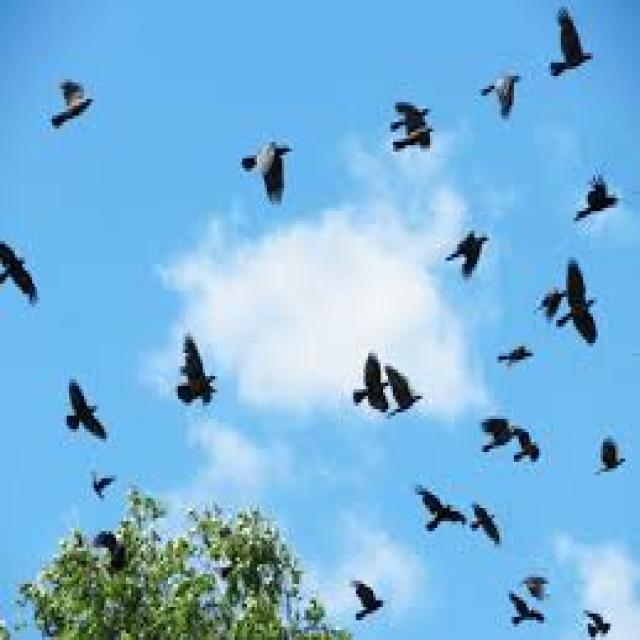bird: (230, 88, 299, 220), (33, 352, 115, 451), (157, 305, 226, 414), (376, 69, 444, 172), (560, 247, 620, 363), (0, 190, 52, 316), (338, 324, 396, 436), (319, 544, 393, 624), (482, 31, 532, 147), (436, 202, 496, 296), (398, 470, 464, 553), (542, 0, 599, 92), (588, 417, 640, 503), (524, 272, 586, 342), (570, 164, 626, 234), (386, 333, 422, 439), (55, 74, 106, 144), (478, 383, 523, 462), (459, 482, 512, 548), (484, 334, 546, 388), (493, 582, 550, 638), (72, 456, 118, 516), (515, 420, 552, 480), (578, 600, 620, 640), (518, 566, 554, 608)
